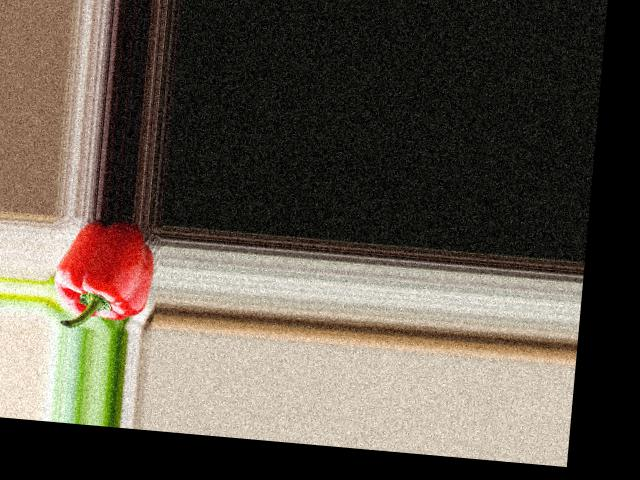bell_pepper: (48, 214, 155, 331)
